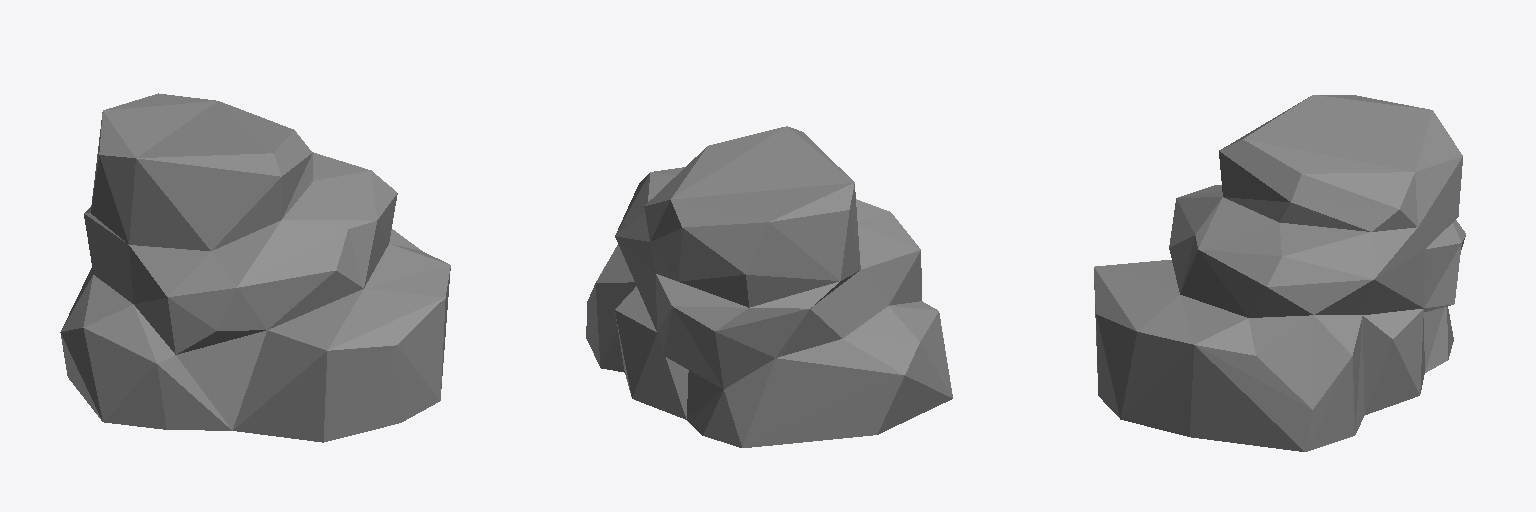
Rendered from Roca_04.obj.
The picture shows the model from 3 angles: view 1: azimuth 30°, elevation 25°; view 2: azimuth 150°, elevation 25°; view 3: azimuth 270°, elevation 25°; orthographic projection.
Visible parts, largest first — view 1: Roca_04; view 2: Roca_04; view 3: Roca_04.
Boxes of the visible parts, <box> form: Roca_04: <box>60,93,450,442</box>; Roca_04: <box>586,126,952,447</box>; Roca_04: <box>1094,95,1465,451</box>.
Bounding box in the file's own units: 24.3 × 15.99 × 23.19.